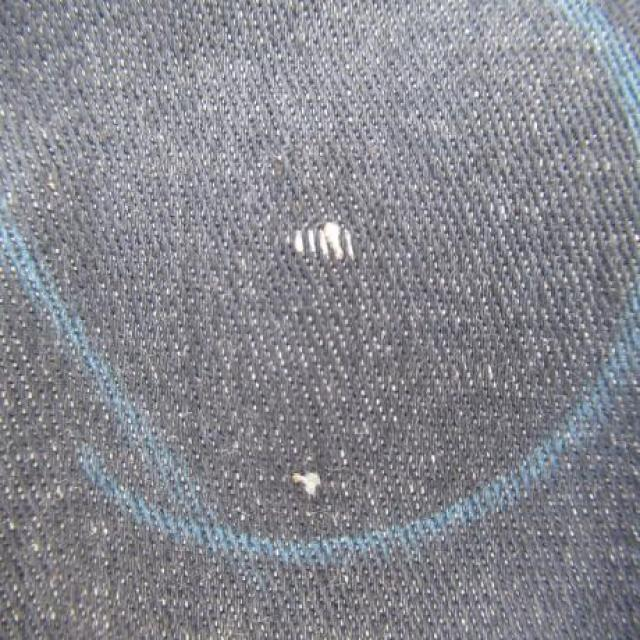stains: (190, 125, 498, 403)
